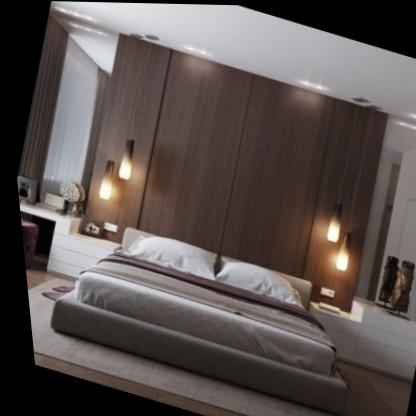Bed: (44, 228, 340, 414)
Wall Panel: (54, 25, 406, 317)
